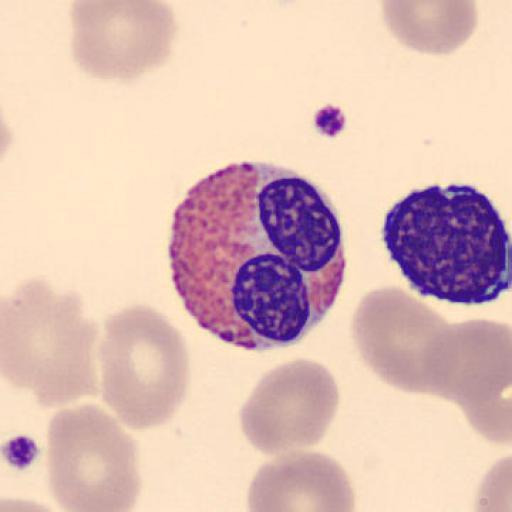RBC: (1, 280, 101, 408), (97, 301, 192, 432), (349, 284, 459, 396), (43, 400, 141, 512), (238, 356, 342, 458), (443, 311, 512, 447), (68, 0, 179, 83), (425, 316, 512, 410), (245, 448, 356, 512), (456, 330, 512, 446), (379, 0, 480, 56), (473, 451, 512, 511), (0, 496, 68, 512)
WBC: (165, 160, 348, 352), (381, 180, 512, 308)
